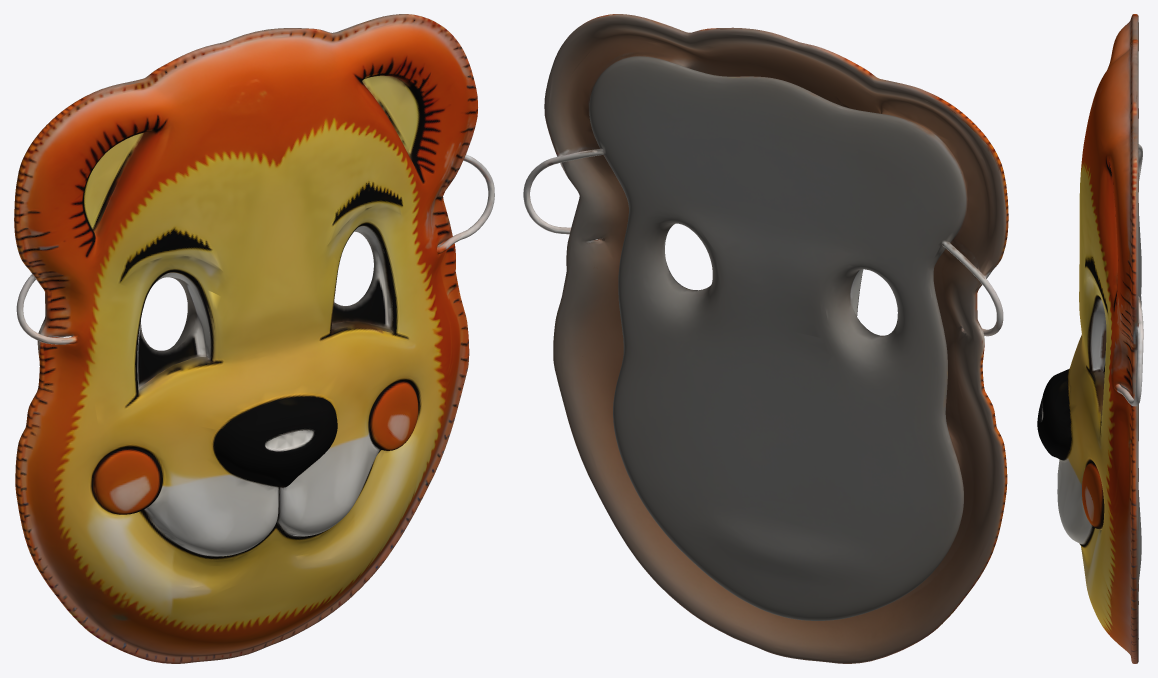
The model's file is mask.glb.
The picture shows the model from 3 angles, left to right: view 1: azimuth 30°, elevation 25°; view 2: azimuth 150°, elevation 25°; view 3: azimuth 270°, elevation 25°; orthographic projection. The views are drawn at different scales.
Visible parts, largest first — view 1: material_0; view 2: material_0; view 3: material_0.
Boxes of the visible parts, bbox=[...] form: material_0: bbox=[14, 14, 494, 663]; material_0: bbox=[523, 14, 1008, 663]; material_0: bbox=[1037, 14, 1143, 663].
Bounding box in the file's own units: 0.8698 × 1.07 × 0.1781.
Materials: 1 (1 with a texture image).
